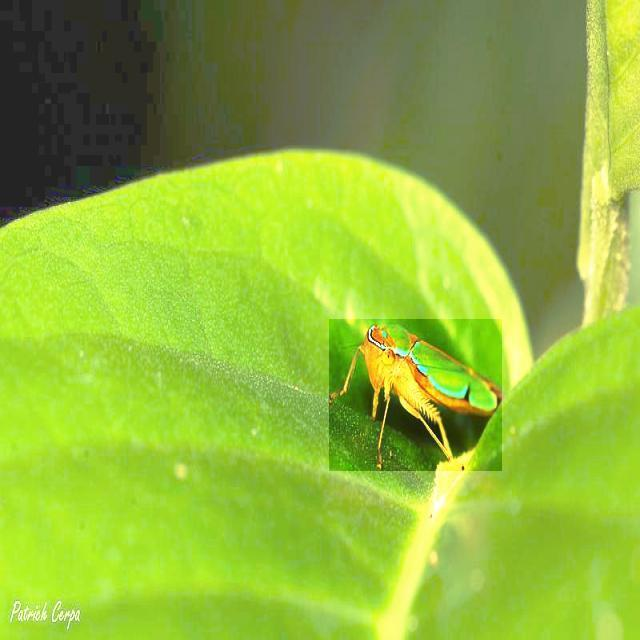green-leafhopper: (329, 319, 502, 471)
